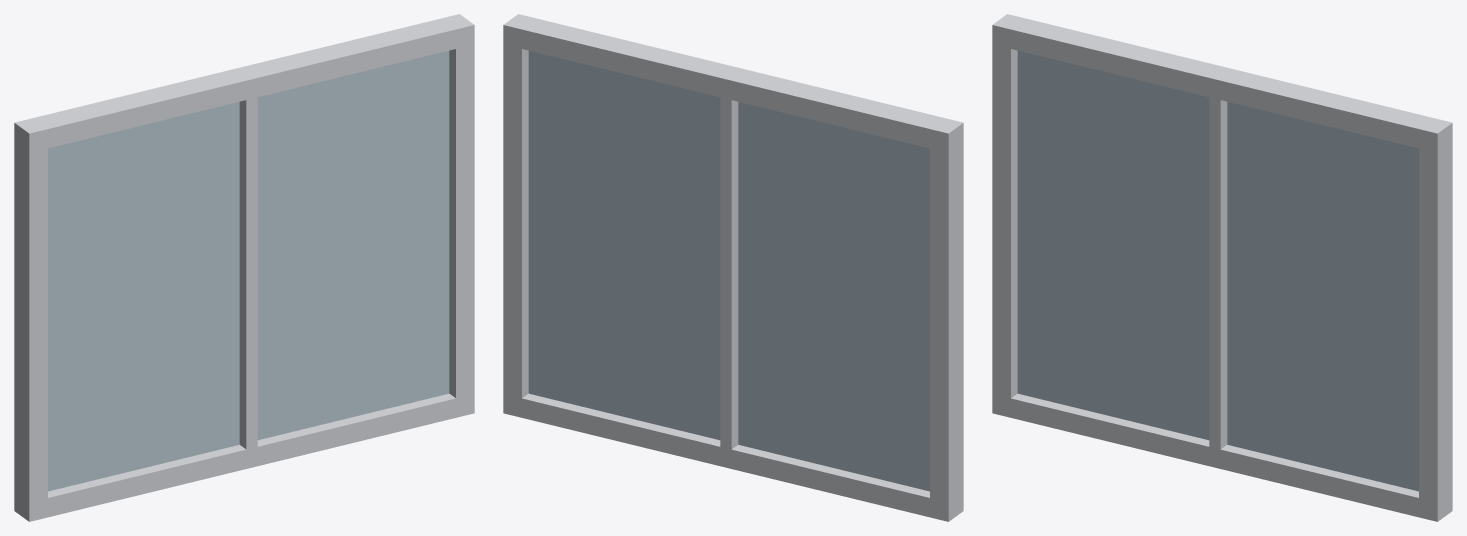
The model's file is ventana.glb.
The picture shows the model from 3 angles, left to right: view 1: azimuth 30°, elevation 25°; view 2: azimuth 150°, elevation 25°; view 3: azimuth 330°, elevation 25°; orthographic projection.
Parts seen in each view (by area): view 1: Ventana; view 2: Ventana; view 3: Ventana.
Part boxes in pixels (bbox=[...]): Ventana: bbox=[14, 14, 474, 521]; Ventana: bbox=[503, 14, 963, 521]; Ventana: bbox=[992, 14, 1452, 521].
Size of the model in its own units: 1.2 by 1 by 0.07.
